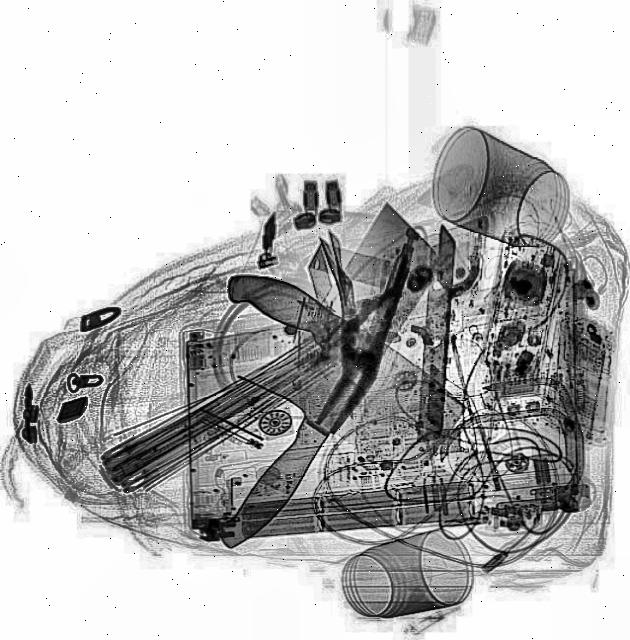Knife: (164, 202, 468, 556), (187, 251, 476, 485)
